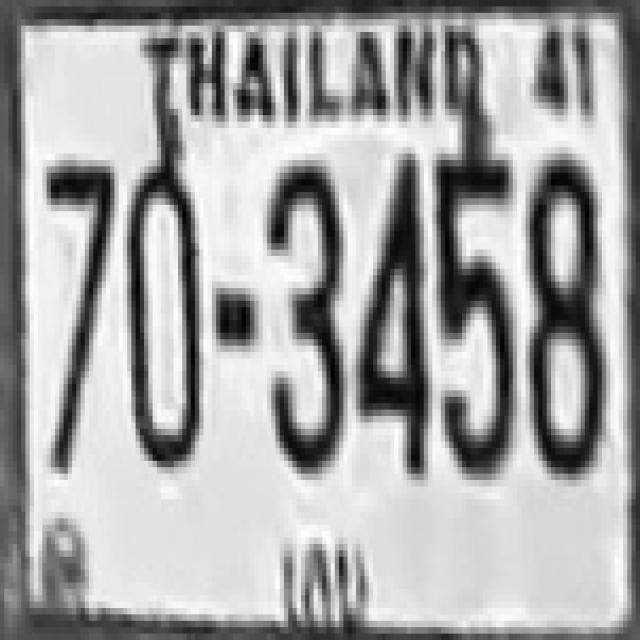0: (123, 150, 199, 464)
3: (263, 154, 339, 467)
4: (354, 150, 426, 470)
5: (432, 140, 513, 473)
7: (42, 154, 110, 460), (42, 157, 110, 374), (42, 154, 110, 352)
8: (526, 150, 598, 470)
Loei: (262, 520, 374, 638)
